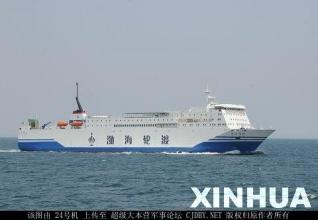otherboat: (10, 85, 272, 152)
